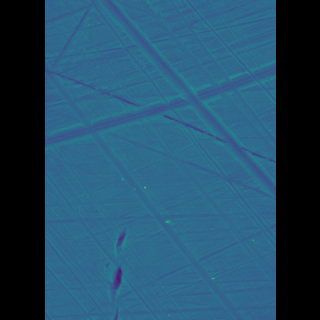Loch: (113, 0, 242, 204), (120, 226, 137, 320)
